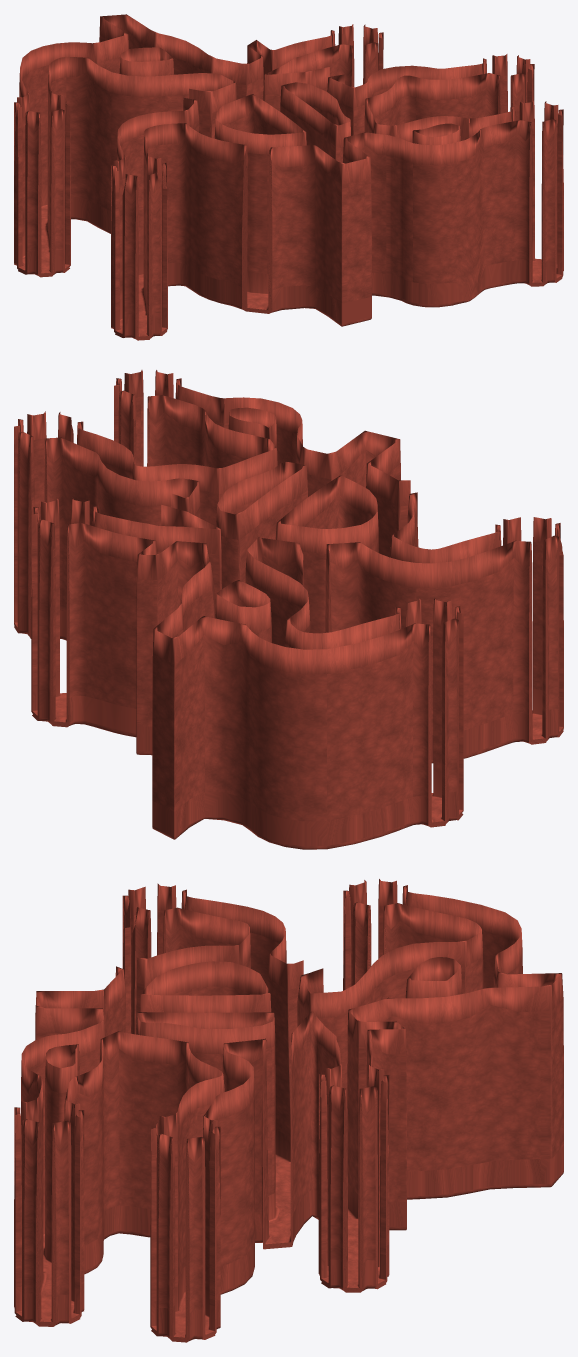
Rendered from level3_minimap.fbx.
The picture shows the model from 3 angles, top to bottom: view 1: azimuth 30°, elevation 25°; view 2: azimuth 150°, elevation 25°; view 3: azimuth 270°, elevation 25°; orthographic projection. The views are drawn at different scales.
Parts seen in each view (by area): view 1: polySurface10; view 2: polySurface10; view 3: polySurface10.
Part boxes in pixels (x1,y1,x2,y2): polySurface10: (14, 14, 563, 340); polySurface10: (14, 370, 563, 849); polySurface10: (14, 879, 563, 1342).
Bounding box in the file's own units: 118 × 41.97 × 104.
